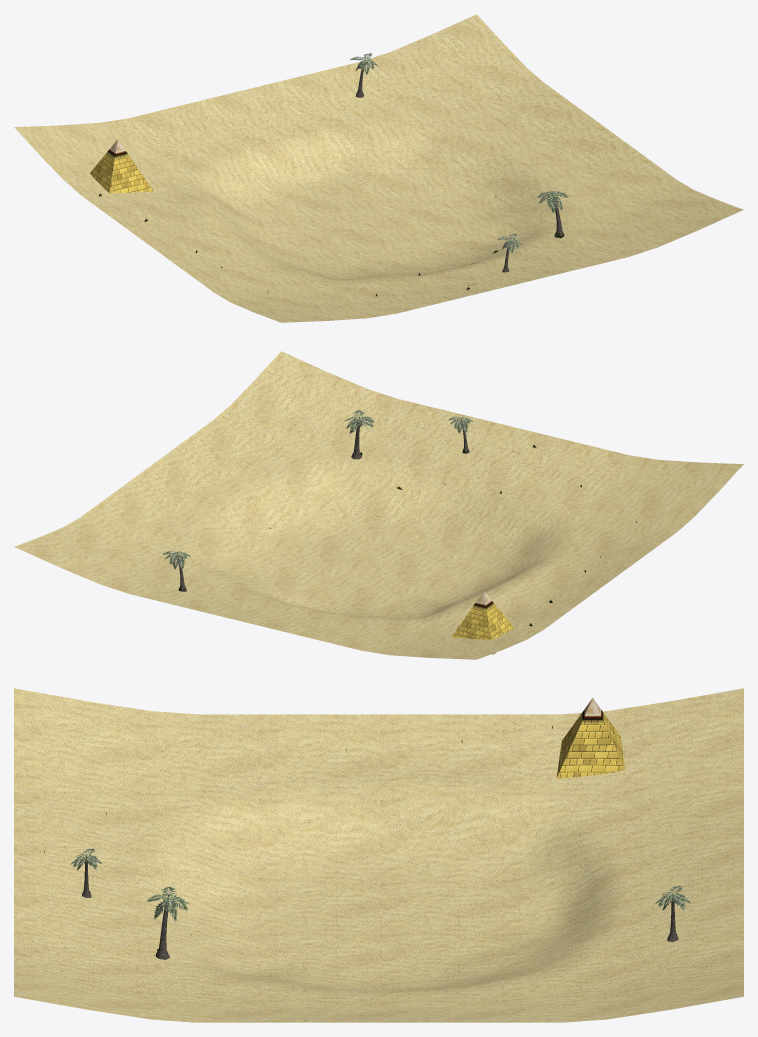
The model's file is oasis.FBX.
The picture shows the model from 3 angles, top to bottom: view 1: azimuth 30°, elevation 25°; view 2: azimuth 150°, elevation 25°; view 3: azimuth 270°, elevation 25°; orthographic projection. The views are drawn at different scales.
Visible parts, largest first — view 1: Ground-LowPoly, Pyramid01, PalmTree08; view 2: Ground-LowPoly, Pyramid01, PalmTree08; view 3: Ground-LowPoly, Pyramid01, PalmTree08, PalmTree09.
Part boxes in pixels (x1,y1,x2,y2): Ground-LowPoly: [14, 14, 743, 322]; Pyramid01: [90, 139, 153, 193]; PalmTree08: [537, 191, 568, 237]; Ground-LowPoly: [14, 351, 743, 659]; Pyramid01: [451, 591, 514, 654]; PalmTree08: [344, 410, 374, 459]; Ground-LowPoly: [14, 688, 743, 1022]; Pyramid01: [556, 698, 625, 778]; PalmTree08: [146, 886, 190, 959]; PalmTree09: [655, 886, 690, 941].
Bounding box in the file's own units: 400 × 400 × 67.41.
5 materials, 5 textured.
